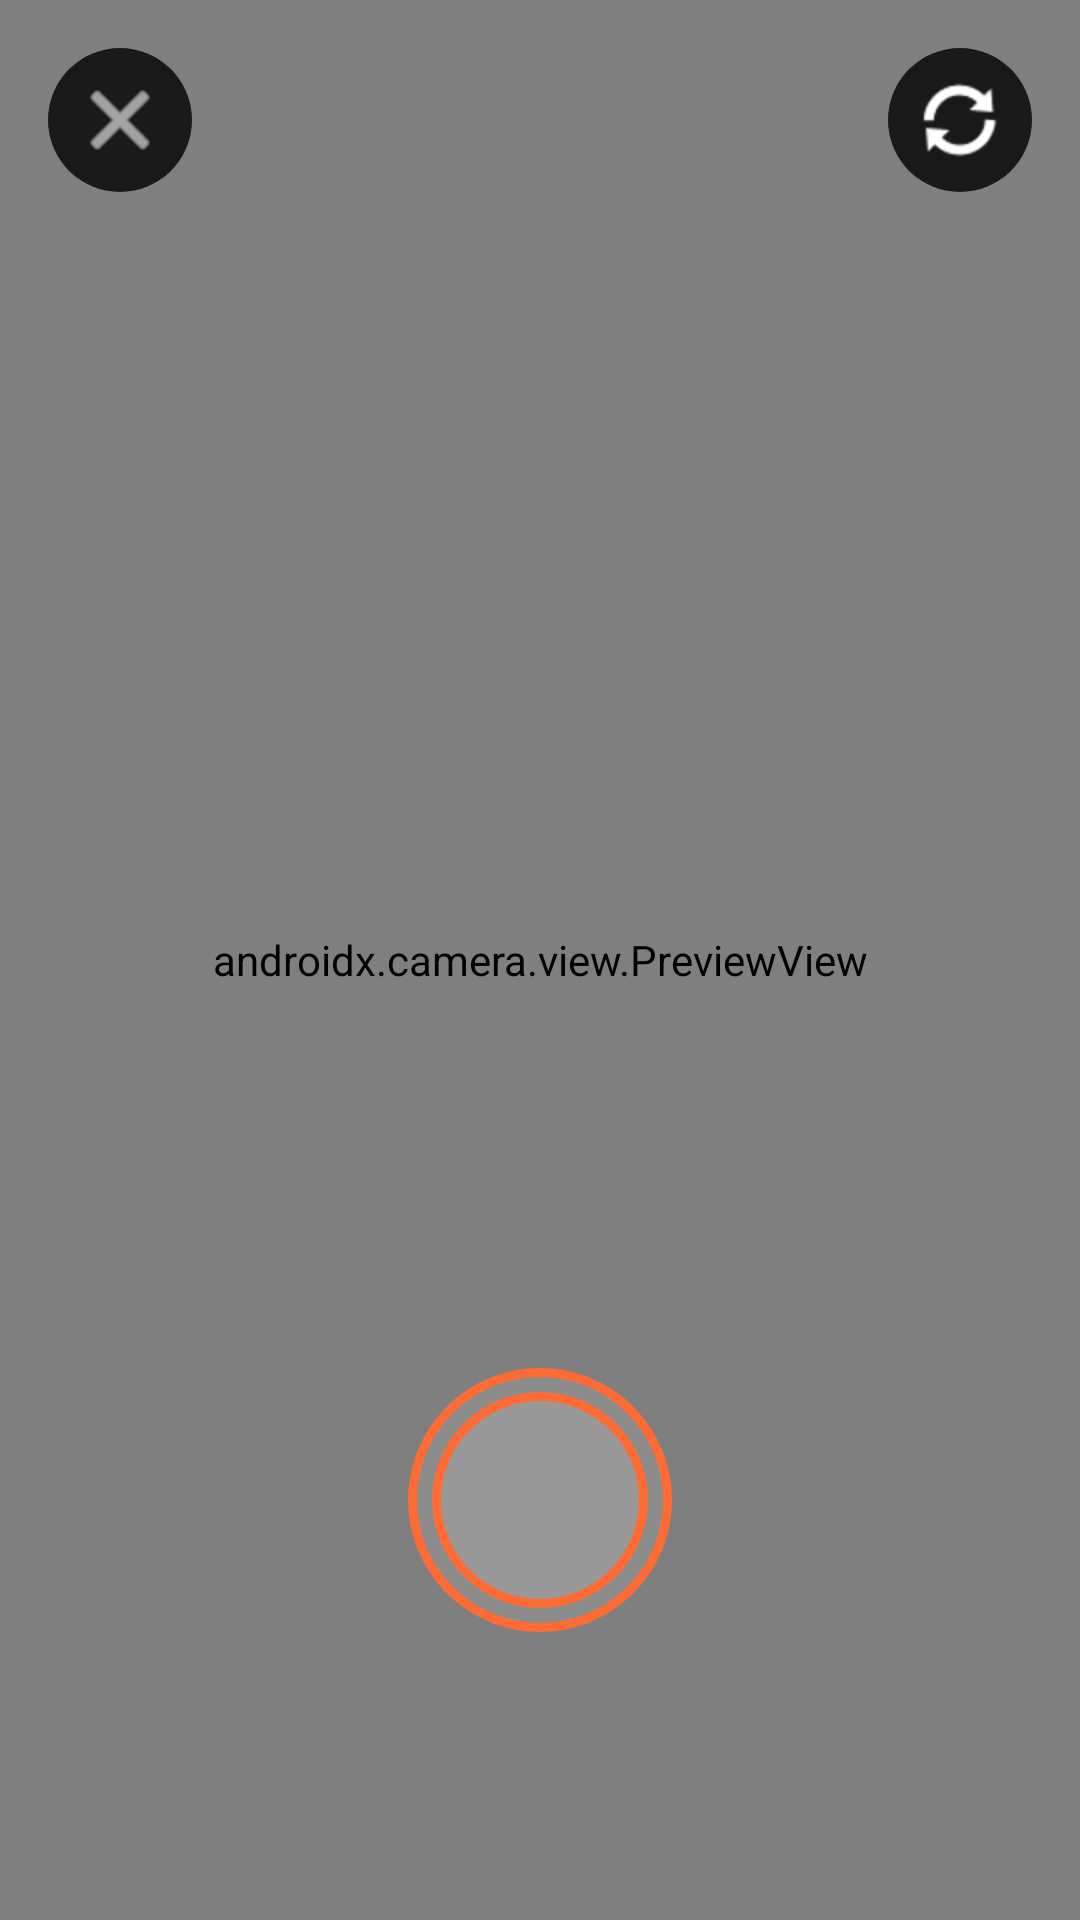

Where to tap for icons on this 1080x1920 app screen, as (x=x, y=y):
close clear cancel: (x=120, y=120)
popup sync: (x=960, y=120)
